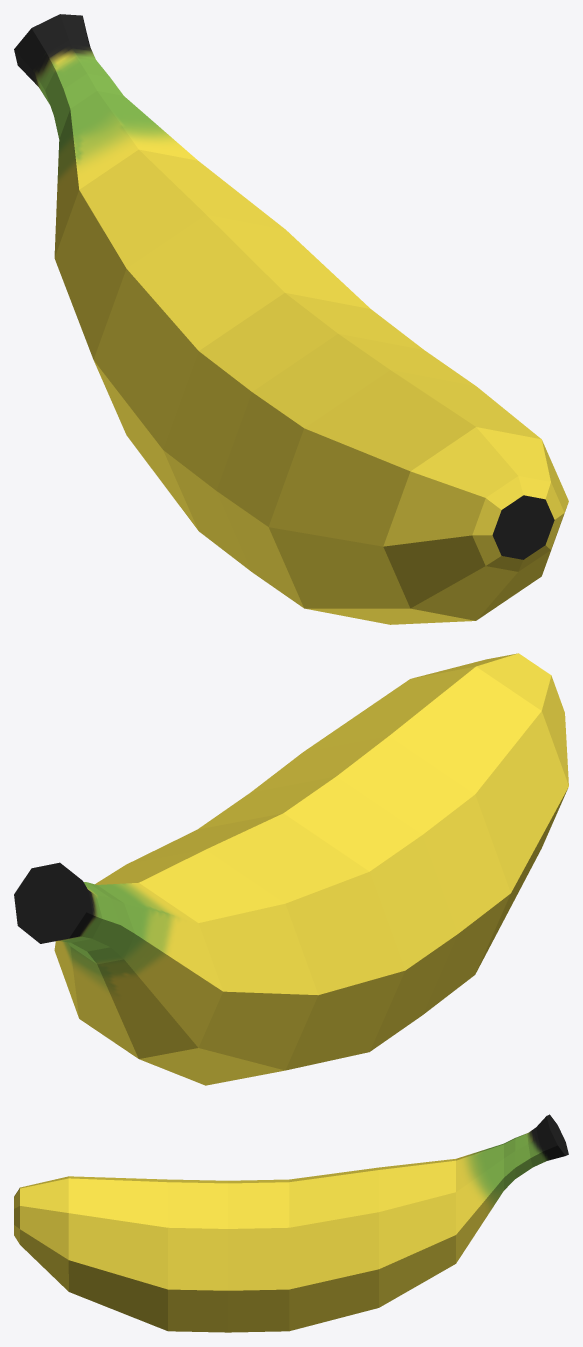
The model's file is banana.fbx.
3 views of the same model, one above another, from view 1: azimuth 30°, elevation 25°; view 2: azimuth 150°, elevation 25°; view 3: azimuth 270°, elevation 25° (orthographic). The views are drawn at different scales.
Parts seen in each view (by area): view 1: banana; view 2: banana; view 3: banana.
Part boxes in pixels (left/top/right/bottom): banana: left=14, top=14, right=568, bottom=624; banana: left=14, top=653, right=568, bottom=1085; banana: left=14, top=1114, right=568, bottom=1332.
Size of the model in its own units: 20.01 by 29.18 by 68.7.
